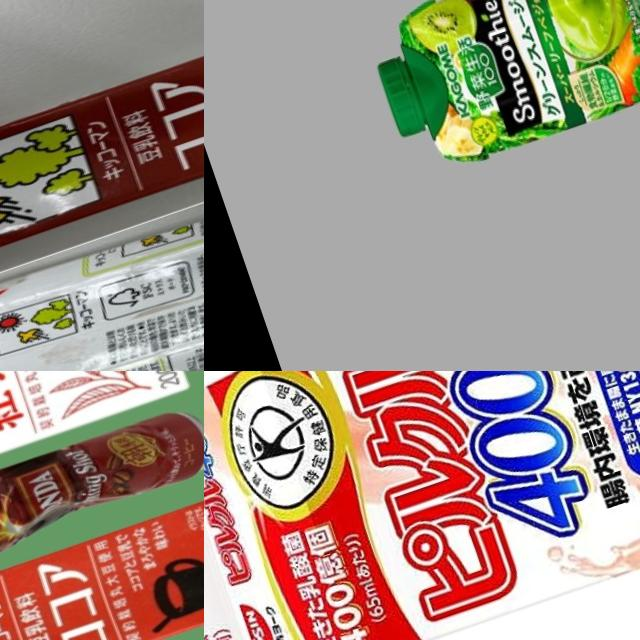Aluminium Foil: (204, 371, 640, 640), (0, 0, 204, 294), (352, 0, 640, 186), (0, 125, 204, 371), (0, 371, 199, 555), (0, 489, 204, 640)
Can: (0, 399, 204, 573)
